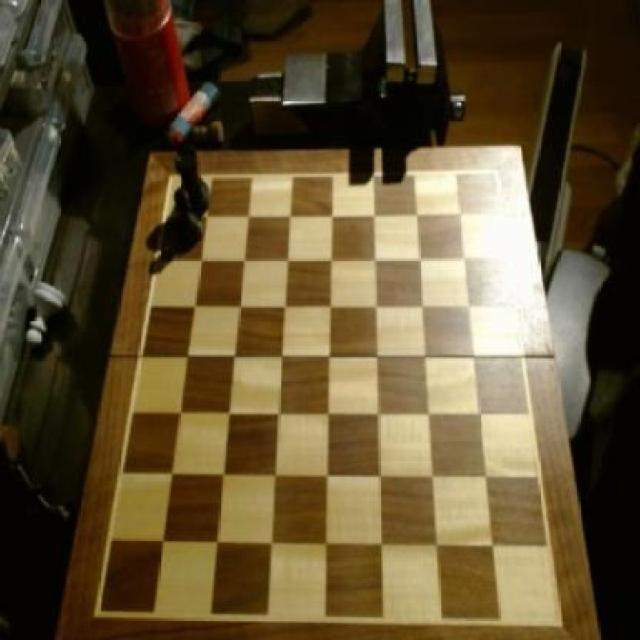black-knight: (171, 192, 203, 250)
black-queen: (171, 147, 210, 216)
